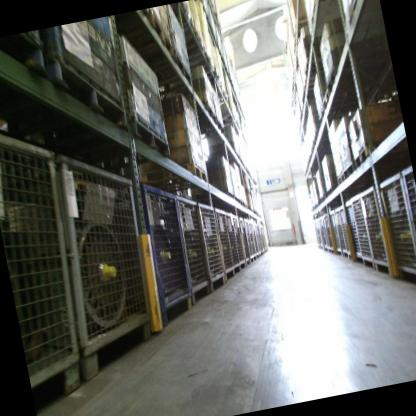pallet: (38, 46, 127, 142), (108, 8, 176, 73), (319, 49, 394, 94), (128, 159, 208, 200), (0, 30, 49, 95), (122, 111, 173, 165), (137, 50, 194, 97), (317, 74, 378, 108), (352, 143, 386, 174), (184, 98, 219, 128), (195, 66, 224, 98), (191, 116, 228, 141), (317, 102, 348, 123), (342, 163, 358, 179), (219, 188, 234, 202), (335, 172, 347, 187), (325, 185, 335, 197), (319, 193, 327, 204), (233, 194, 241, 203), (238, 198, 245, 207)
stillage: (30, 117, 168, 370), (0, 102, 109, 416), (130, 169, 201, 321), (168, 185, 215, 303), (377, 169, 416, 285), (358, 179, 395, 279), (191, 196, 229, 292), (209, 200, 238, 285), (349, 190, 377, 274), (398, 160, 416, 253), (342, 195, 365, 267), (221, 208, 243, 274), (337, 200, 355, 261), (230, 210, 247, 270), (236, 212, 253, 265), (333, 205, 349, 257), (328, 208, 344, 255), (242, 215, 256, 262), (245, 218, 258, 261), (323, 212, 335, 254), (249, 218, 260, 261), (321, 214, 332, 253), (252, 220, 263, 258), (318, 214, 329, 250), (254, 222, 264, 256), (312, 219, 322, 249), (257, 221, 266, 254), (317, 217, 326, 250), (315, 218, 323, 249)
